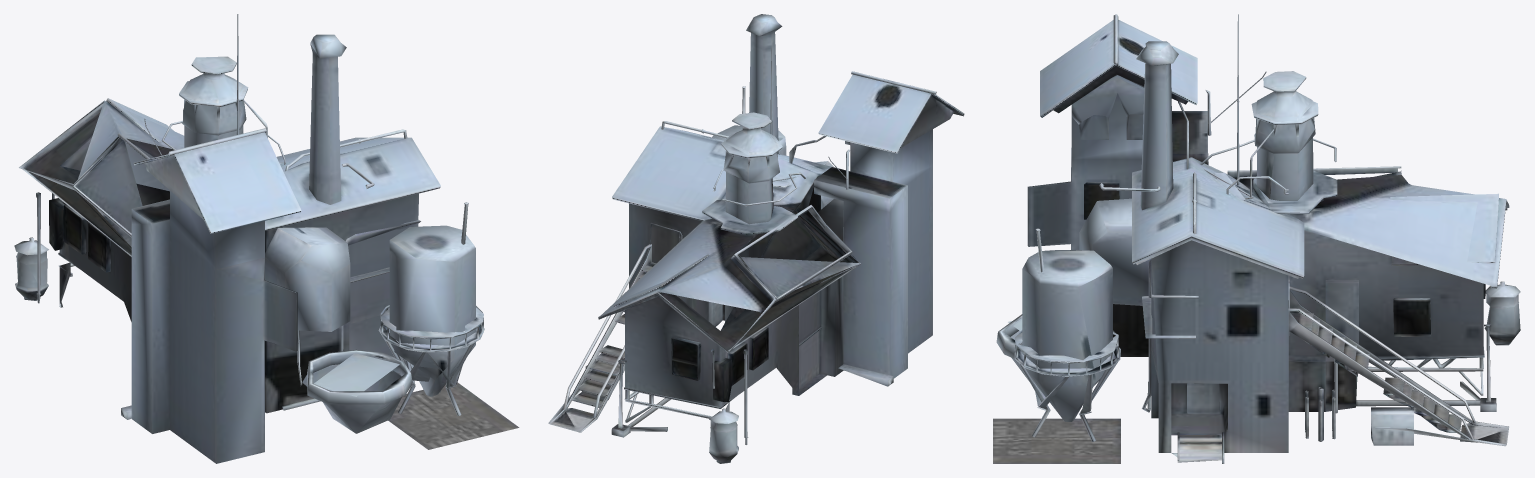
Rendered from palm_oil_mill.glb.
3 views of the same model, side by side, from view 1: azimuth 30°, elevation 25°; view 2: azimuth 150°, elevation 25°; view 3: azimuth 270°, elevation 25° (orthographic). The views are drawn at different scales.
Visible parts, largest first — view 1: Body; view 2: Body; view 3: Body.
Part boxes in pixels (<box>): Body: <box>14,14,519,463</box>; Body: <box>548,14,964,463</box>; Body: <box>993,14,1520,463</box>.
Size of the model in its own units: 13.52 by 16.35 by 21.02.
Materials: 1 (1 with a texture image).
